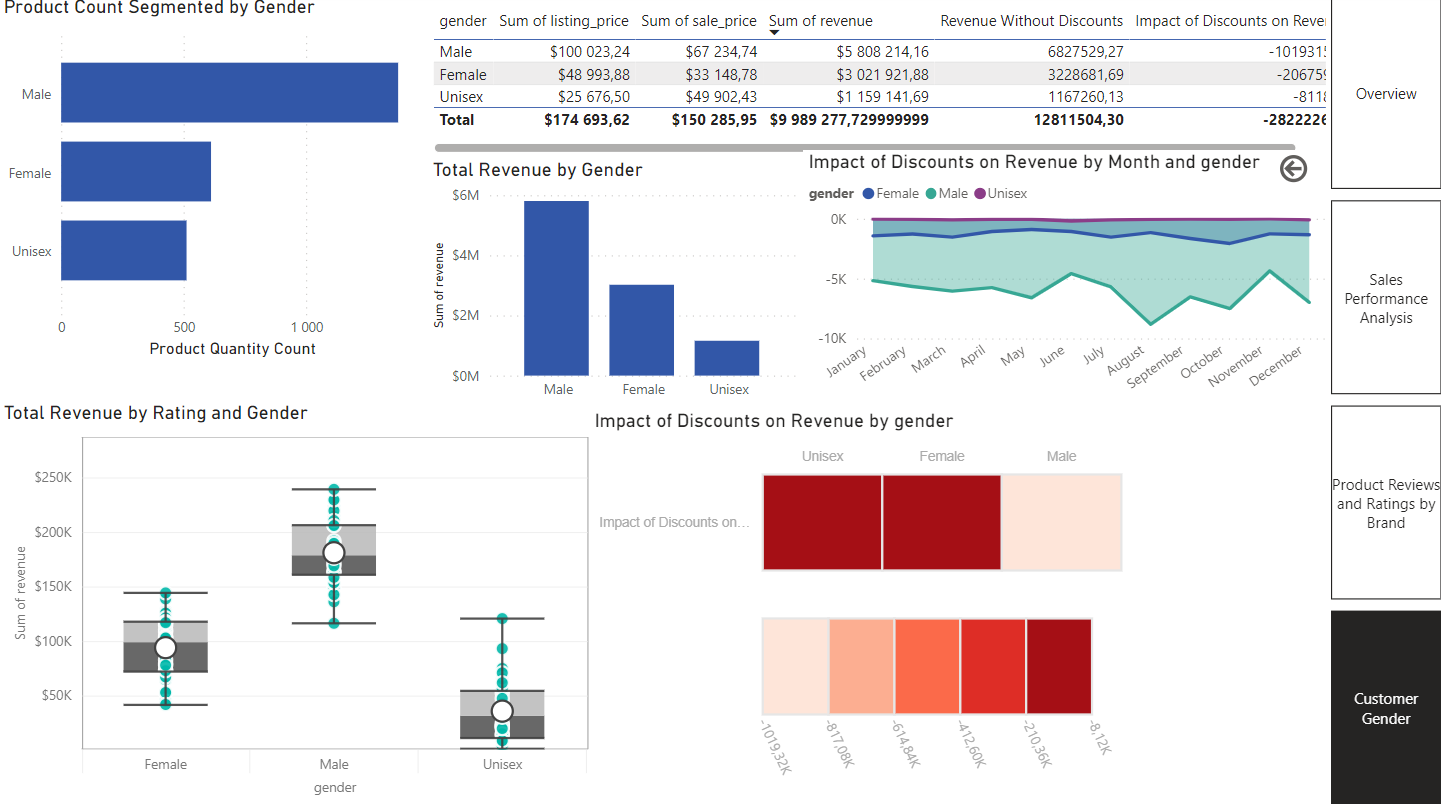

The dashboard page shown, as its layout file describes it:
{"tool":"powerbi","page":{"name":"Customer Gender","canvas":[1280,720],"ordinal":3},"visuals":[{"type":"clusteredBarChart","title":"Product Count Segmented by Gender","fields":{"Category":["Dim_info_v2.gender"],"Y":["CountNonNull(Dim_info_v2.product_id)"]},"box":[0,0,380,325.6],"z":0},{"type":"tableEx","fields":{"Values":["Dim_info_v2.gender","Sum(Fact_finance.listing_price)","Sum(Fact_finance.sale_price)","Sum(Fact_finance.revenue)","Fact_finance.Discounted Sales","Fact_finance.Impact of Discounts on Revenue"]},"box":[380,6.8,801.8,138],"z":1000},{"type":"lineStackedColumnComboChart","title":"Total Revenue by Gender","fields":{"Category":["Dim_info_v2.gender"],"Y":["Sum(Fact_finance.revenue)"]},"box":[380,144.8,333.4,222.6],"z":2000},{"type":"BoxandWhiskerByMAQ1823AD39DT234AB532063E128AX","title":"Total Revenue by Rating and Gender","fields":{"measure":["Sum(Fact_finance.revenue)"],"categoryGroup":["Dim_info_v2.gender"],"category":["Dim_reviews_v2.rating"]},"box":[0,359.6,528.7,360.6],"z":3000},{"type":"TableHeatMap1443716069308","fields":{"Category":["Dim_info_v2.gender"],"Y":["Fact_finance.Impact of Discounts on Revenue"]},"box":[523.9,367.4,484,352.8],"z":4000},{"type":"areaChart","fields":{"Category":["Dim_traffic_v3.last_visited.Variation.Date Hierarchy.Year","Dim_traffic_v3.last_visited.Variation.Date Hierarchy.Quarter","Dim_traffic_v3.last_visited.Variation.Date Hierarchy.Month","Dim_traffic_v3.last_visited.Variation.Date Hierarchy.Day"],"Y":["Fact_finance.Impact of Discounts on Revenue"],"Series":["Dim_info_v2.gender"]},"box":[713.4,137,468.5,230.3],"z":5000},{"type":"actionButton","box":[1132.3,137,40.8,33],"z":6000},{"type":"pageNavigator","box":[1181.8,0,98.2,720.2],"z":7000}]}

Visuals, with their boxes on the page's 1280x720 design canvas (x1, y1, x2, y2). These are canvas units, not pixel positions in the 1441x804 screenshot, which may show the page scaled, cropped or inside an application window:
"Product Count Segmented by Gender" clusteredBarChart: [x1=0, y1=0, x2=380, y2=326]
tableEx - Dim_info_v2.gender x Sum(Fact_finance.listing_price): [x1=380, y1=7, x2=1182, y2=145]
"Total Revenue by Gender" lineStackedColumnComboChart: [x1=380, y1=145, x2=713, y2=367]
"Total Revenue by Rating and Gender" BoxandWhiskerByMAQ1823AD39DT234AB532063E128AX: [x1=0, y1=360, x2=529, y2=720]
TableHeatMap1443716069308 - Dim_info_v2.gender x Fact_finance.Impact of Discounts on Revenue: [x1=524, y1=367, x2=1008, y2=720]
areaChart - Dim_traffic_v3.last_visited.Variation.Date Hierarchy.Year x Dim_traffic_v3.last_visited.Variation.Date Hierarchy.Quarter: [x1=713, y1=137, x2=1182, y2=367]
actionButton: [x1=1132, y1=137, x2=1173, y2=170]
pageNavigator: [x1=1182, y1=0, x2=1280, y2=720]
